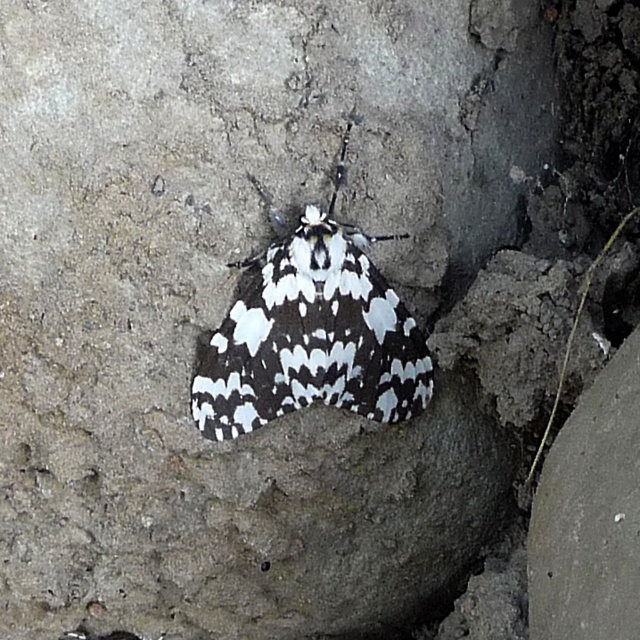Butterfly: (190, 145, 454, 465)
